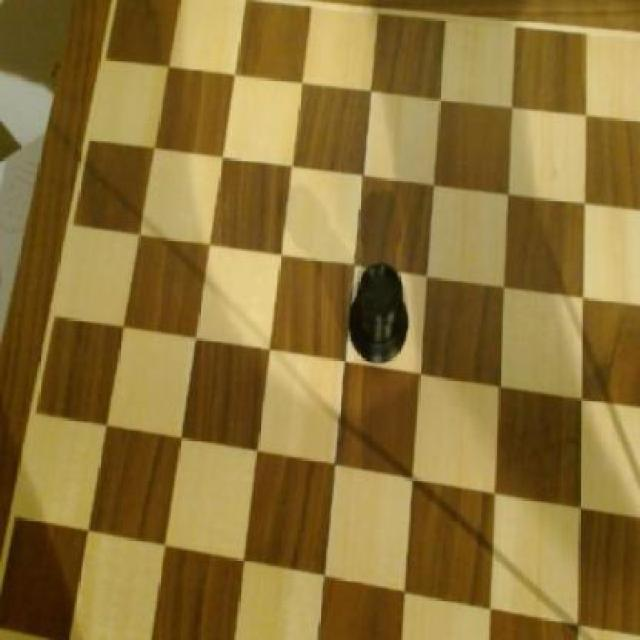black-queen: (346, 251, 415, 371)
